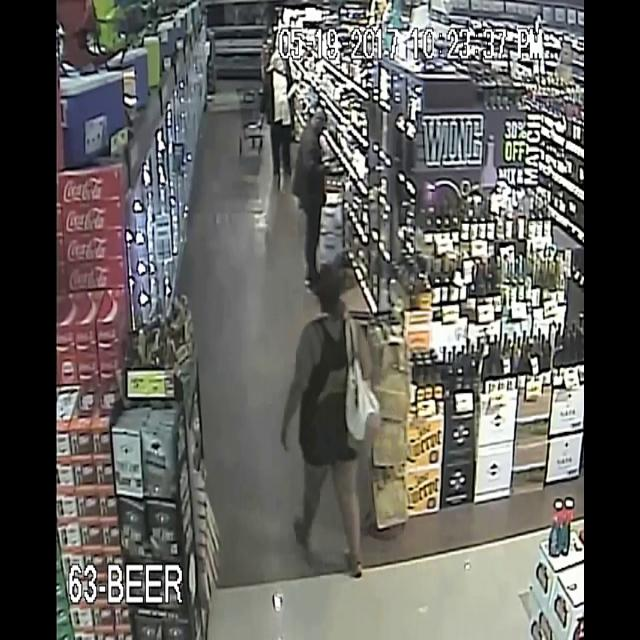Product: (325, 149, 338, 169)
normal: (273, 255, 376, 594), (258, 44, 297, 174)
shoplifting: (288, 92, 348, 297)
